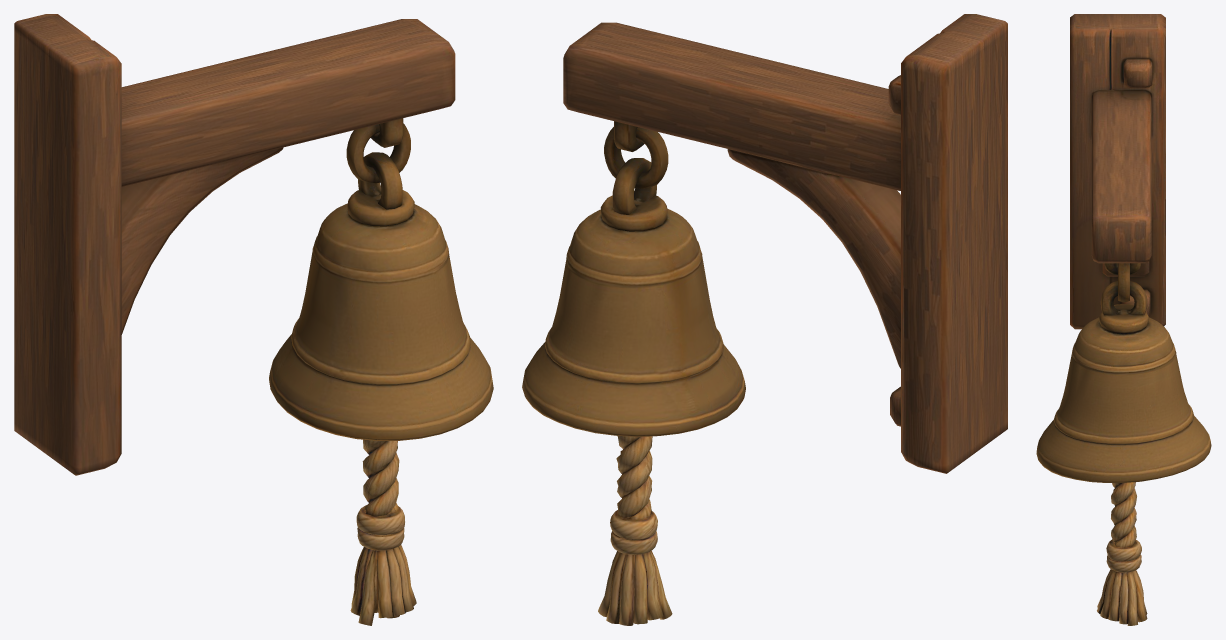
Rendered from bell.glb.
The picture shows the model from 3 angles, left to right: view 1: azimuth 30°, elevation 25°; view 2: azimuth 150°, elevation 25°; view 3: azimuth 270°, elevation 25°; orthographic projection. The views are drawn at different scales.
Visible parts, largest first — view 1: tripo_node_44df9084-3990-4613-bfdc-3861e7147737; view 2: tripo_node_44df9084-3990-4613-bfdc-3861e7147737; view 3: tripo_node_44df9084-3990-4613-bfdc-3861e7147737.
Part boxes in pixels (x1,y1,x2,y2): tripo_node_44df9084-3990-4613-bfdc-3861e7147737: (14, 14, 493, 625); tripo_node_44df9084-3990-4613-bfdc-3861e7147737: (522, 14, 1007, 625); tripo_node_44df9084-3990-4613-bfdc-3861e7147737: (1036, 14, 1211, 625).
Size of the model in its own units: 0.6948 by 0.9995 by 0.3276.
Materials: 1 (1 with a texture image).
